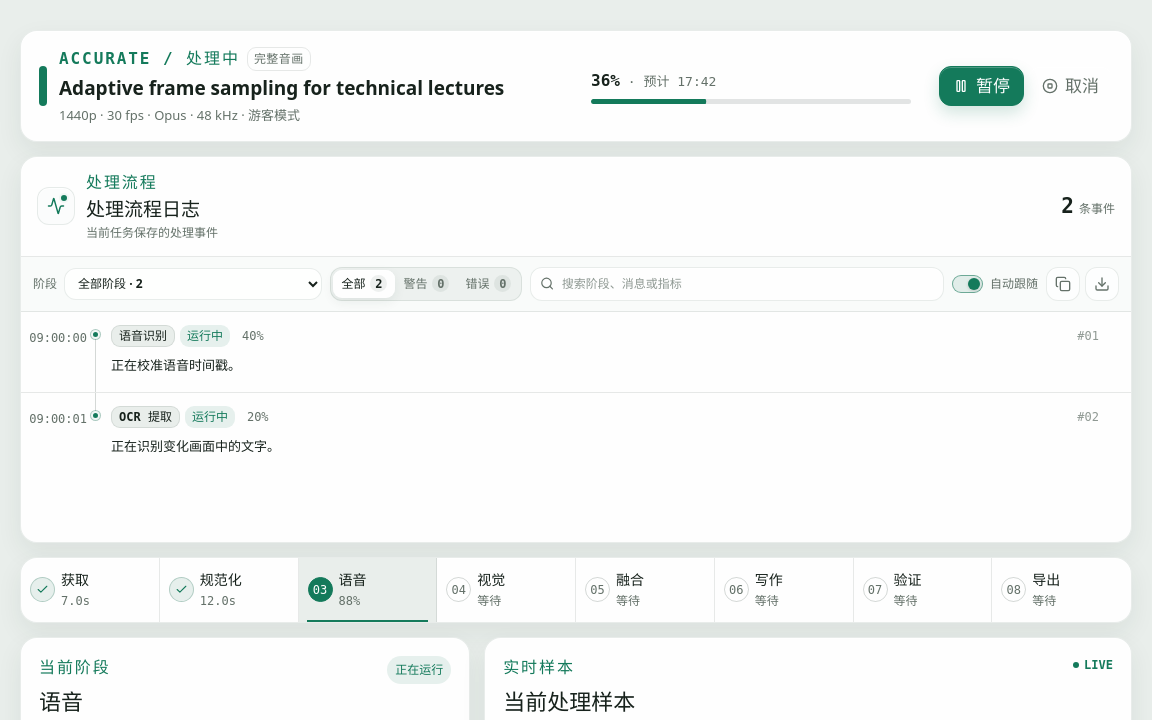
Test: run processing workspace › keeps the stage rail and processing-log stage filter synchronized
Click the button with aria-label "视觉，" at (507,590), box 437,558 -> 576,622
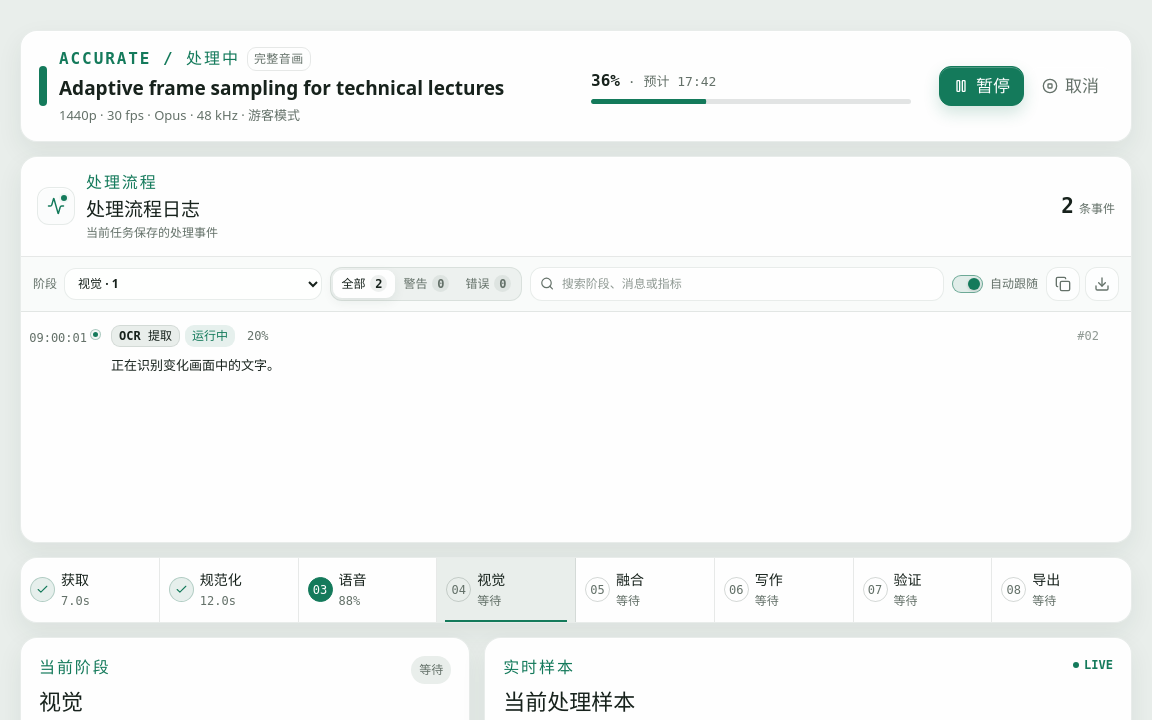
Expected: the text "正在识别变化画面中的文字。" is shown, 111,356 -> 280,374
Now the dropdown labelled "阶段" shows "视觉 · 1"
Now the text "正在校准语音时间戳。" is gone
Select "语音 · 1" in the dropdown labelled "阶段" at (193,284), box 64,268 -> 322,300
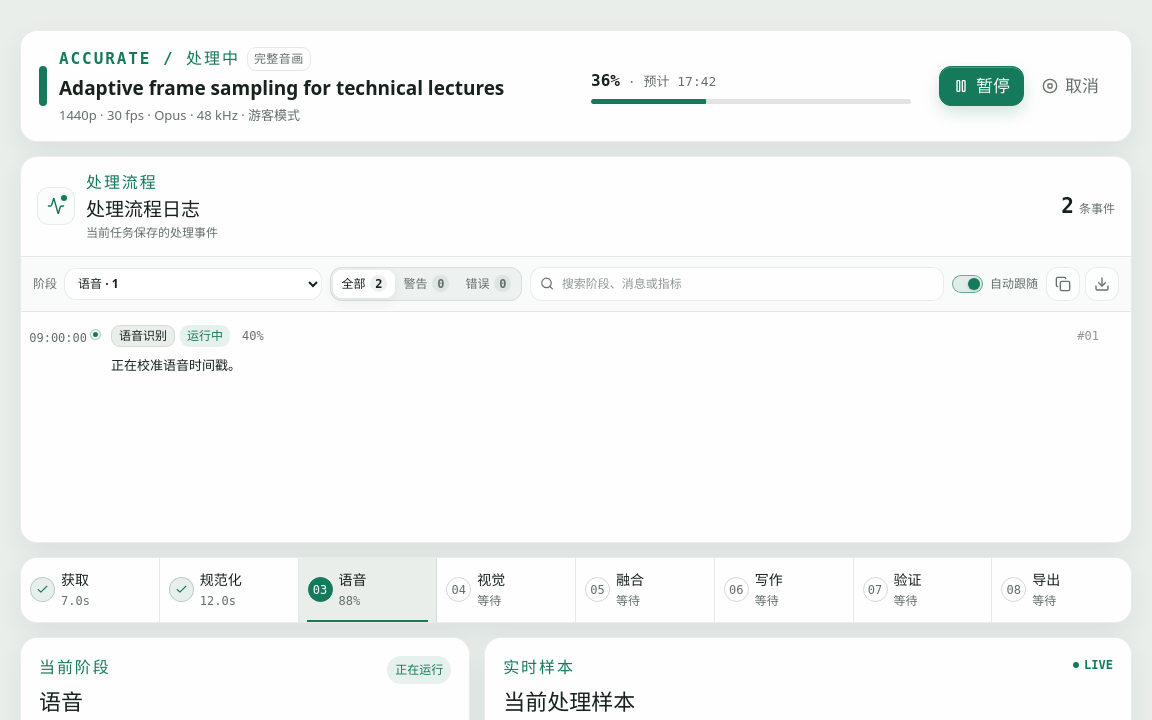
Now the text "正在校准语音时间戳。" is shown, box 111,356 -> 241,374
Now the text "正在识别变化画面中的文字。" is gone
